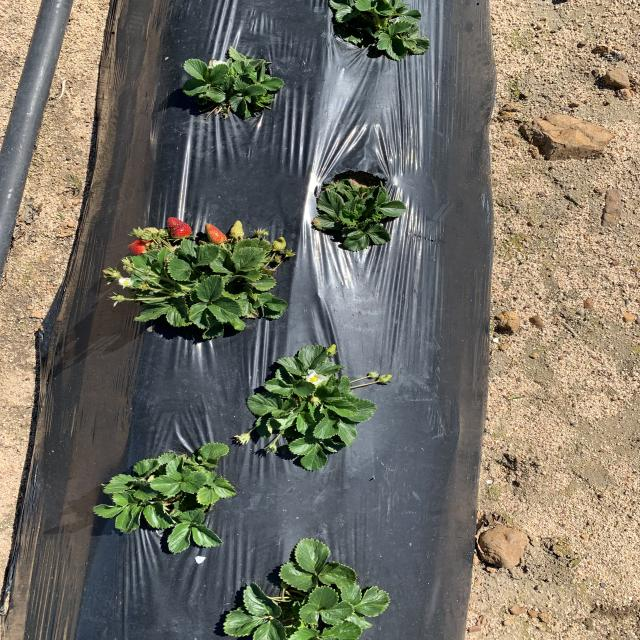unripe: (123, 236, 161, 258), (166, 217, 192, 240)
